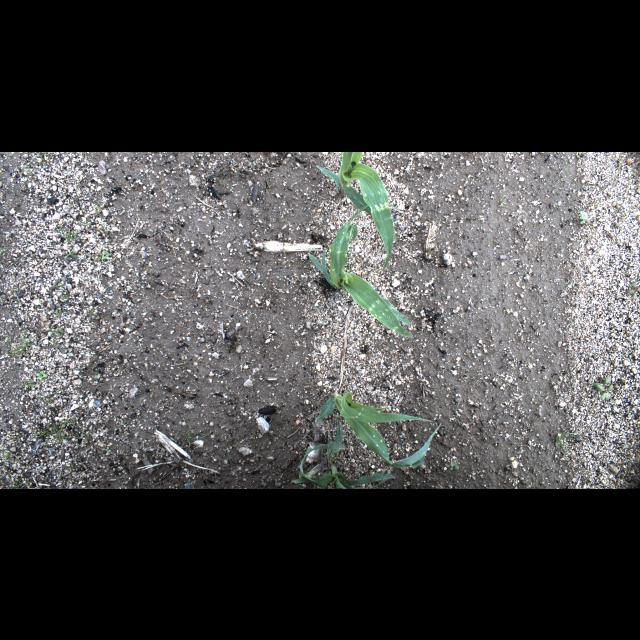crop: (304, 202, 422, 338), (298, 390, 442, 488), (312, 152, 401, 270)
weed: (590, 370, 612, 400), (578, 211, 588, 227), (100, 246, 112, 258), (36, 369, 46, 383)
